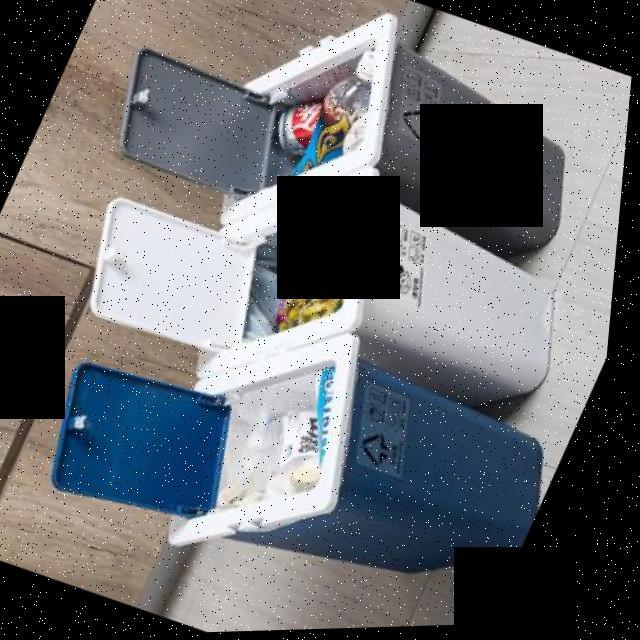bin: (123, 285, 599, 637), (176, 139, 610, 440)
